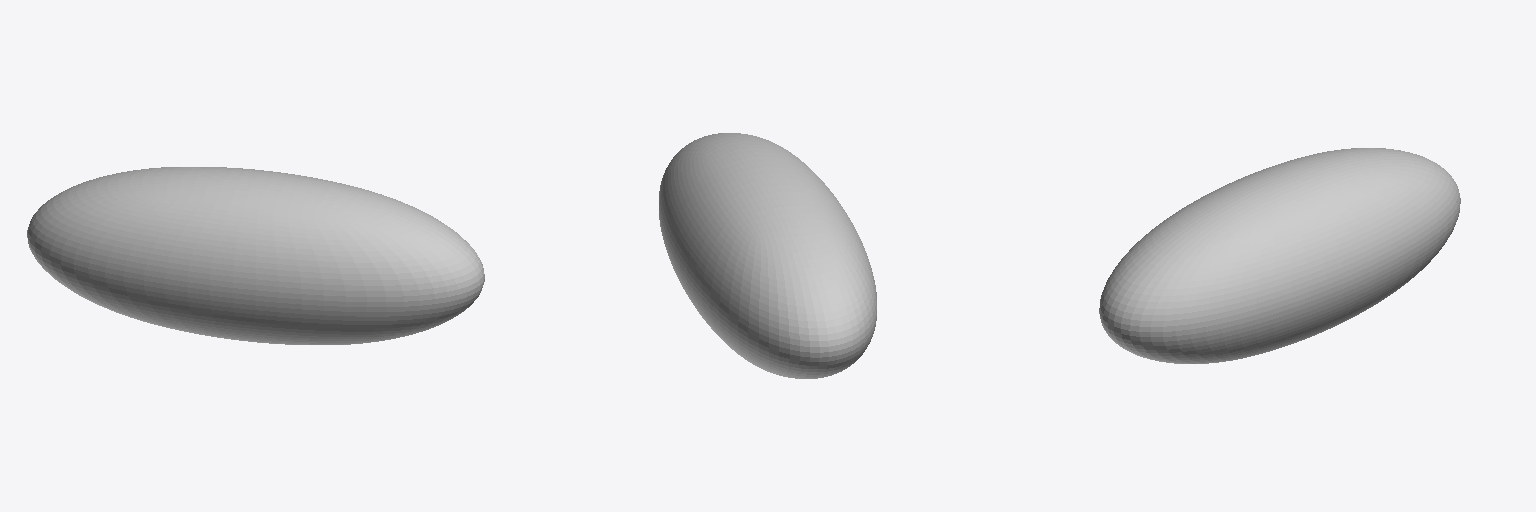
The model's file is nudo3-3.obj.
3 renders of one model, left to right at view 1: azimuth 30°, elevation 25°; view 2: azimuth 150°, elevation 25°; view 3: azimuth 270°, elevation 25°, orthographic.
Parts seen in each view (by area): view 1: nudo3_3_Mesh; view 2: nudo3_3_Mesh; view 3: nudo3_3_Mesh.
Boxes of the visible parts, x1=… form: nudo3_3_Mesh: x1=27, y1=167, x2=484, y2=344; nudo3_3_Mesh: x1=659, y1=133, x2=876, y2=378; nudo3_3_Mesh: x1=1099, y1=148, x2=1460, y2=363.
Size of the model in its own units: 0.8203 by 0.3825 by 0.8203.